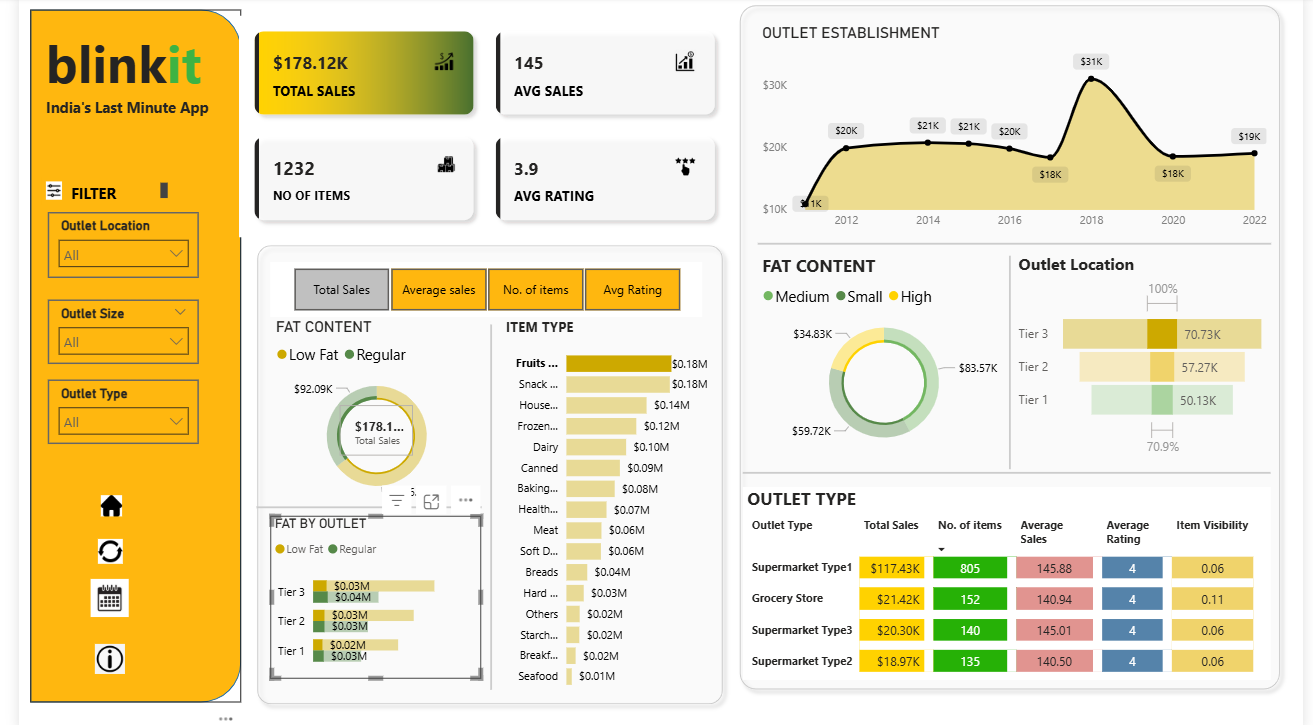

The dashboard page shown, as its layout file describes it:
{"tool":"powerbi","page":{"name":"Blinkit Dashboard","canvas":[1400,800],"ordinal":0},"visuals":[{"type":"shape","box":[251.4,261.4,525.7,518.6],"z":0},{"type":"shape","box":[12.9,14.3,230,755.7],"z":1000},{"type":"textbox","box":[24.3,28.6,204.3,135.7],"z":2000},{"type":"slicer","fields":{"Values":["BlinkIT Grocery Data.Outlet Location Type"]},"box":[31.5,234.1,165.1,72],"z":3000},{"type":"slicer","fields":{"Values":["BlinkIT Grocery Data.Outlet Type"]},"box":[31.5,417.2,165.1,70.5],"z":4000},{"type":"slicer","fields":{"Values":["BlinkIT Grocery Data.Outlet Size"]},"box":[31.5,330.2,165.1,70.5],"z":5000},{"type":"image","box":[80,538.6,40,32.9],"z":6000},{"type":"image","box":[80,585.7,38.6,37.1],"z":7000},{"type":"image","box":[71.4,630,55.7,51.4],"z":8000},{"type":"image","box":[75.7,701.4,45.7,42.9],"z":9000},{"type":"image","box":[24,196.6,27,30],"z":10000},{"type":"textbox","box":[51.4,197.1,115.7,37.1],"z":11000},{"type":"cardVisual","fields":{"Data":["BlinkIT Grocery Data.Total Sales","BlinkIT Grocery Data.Average sales","BlinkIT Grocery Data.No. of items","BlinkIT Grocery Data.Avg Rating"]},"box":[240,20,537.1,241.4],"z":12000},{"type":"donutChart","title":"FAT CONTENT","fields":{"Y":["BlinkIT Grocery Data.Total Sales"],"Category":["BlinkIT Grocery Data.Item Fat Content"]},"box":[275.7,348.6,230,208.6],"z":13000},{"type":"slicer","fields":{"Values":["Metrix.Metrix"]},"box":[274.3,288.6,471.4,60],"z":14000},{"type":"cardVisual","fields":{"Data":["BlinkIT Grocery Data.Total Sales"]},"box":[344.3,440,90,65.7],"z":15000},{"type":"clusteredBarChart","title":"FAT BY OUTLET","fields":{"Y":["BlinkIT Grocery Data.Total Sales"],"Category":["BlinkIT Grocery Data.Outlet Location Type"],"Series":["BlinkIT Grocery Data.Item Fat Content"]},"box":[274.3,565.7,230,178.6],"z":16000},{"type":"shape","box":[258.6,534.3,245.7,44.3],"z":17000},{"type":"shape","box":[478.6,357.1,72.9,398.6],"z":18000},{"type":"barChart","title":"ITEM TYPE","fields":{"Y":["BlinkIT Grocery Data.Total Sales"],"Category":["BlinkIT Grocery Data.Item Type"]},"box":[525.7,348.6,230,415.7],"z":19000},{"type":"shape","box":[777.1,0,607.1,764.3],"z":20000},{"type":"lineChart","title":"OUTLET ESTABLISHMENT ","fields":{"Y":["BlinkIT Grocery Data.Total Sales"],"Category":["BlinkIT Grocery Data.Outlet Establishment Year"]},"box":[805.7,28.6,560,232.9],"z":21000},{"type":"shape","box":[805.7,242.9,560,52.9],"z":22000},{"type":"donutChart","title":"FAT CONTENT","fields":{"Category":["BlinkIT Grocery Data.Outlet Size"],"Y":["BlinkIT Grocery Data.Total Sales"]},"box":[805.7,280,275.7,225.7],"z":23000},{"type":"shape","box":[1044.3,282.9,72.9,232.9],"z":24000},{"type":"funnel","title":"Outlet Location ","fields":{"Category":["BlinkIT Grocery Data.Outlet Location Type"],"Y":["Sum(BlinkIT Grocery Data.Sales)"]},"box":[1085.7,280,280,225.7],"z":25000},{"type":"shape","box":[790,498.6,575.7,40],"z":26000},{"type":"pivotTable","title":"OUTLET TYPE","fields":{"Values":["BlinkIT Grocery Data.Total Sales","BlinkIT Grocery Data.No. of items","BlinkIT Grocery Data.Average sales","BlinkIT Grocery Data.Avg Rating","Avg(BlinkIT Grocery Data.Item Visibility)"],"Rows":["BlinkIT Grocery Data.Outlet Type"]},"box":[790,534.3,575.7,210],"z":27000}]}

Visuals, with their boxes on the page's 1400x800 design canvas (x1, y1, x2, y2). These are canvas units, not pixel positions in the 1313x725 screenshot, which may show the page scaled, cropped or inside an application window:
shape: [left=251, top=261, right=777, bottom=780]
shape: [left=13, top=14, right=243, bottom=770]
textbox: [left=24, top=29, right=229, bottom=164]
slicer - BlinkIT Grocery Data.Outlet Location Type: [left=32, top=234, right=197, bottom=306]
slicer - BlinkIT Grocery Data.Outlet Type: [left=32, top=417, right=197, bottom=488]
slicer - BlinkIT Grocery Data.Outlet Size: [left=32, top=330, right=197, bottom=401]
image: [left=80, top=539, right=120, bottom=572]
image: [left=80, top=586, right=119, bottom=623]
image: [left=71, top=630, right=127, bottom=681]
image: [left=76, top=701, right=121, bottom=744]
image: [left=24, top=197, right=51, bottom=227]
textbox: [left=51, top=197, right=167, bottom=234]
cardVisual - BlinkIT Grocery Data.Total Sales x BlinkIT Grocery Data.Average sales: [left=240, top=20, right=777, bottom=261]
"FAT CONTENT" donutChart: [left=276, top=349, right=506, bottom=557]
slicer - Metrix.Metrix: [left=274, top=289, right=746, bottom=349]
cardVisual - BlinkIT Grocery Data.Total Sales: [left=344, top=440, right=434, bottom=506]
"FAT BY OUTLET" clusteredBarChart: [left=274, top=566, right=504, bottom=744]
shape: [left=259, top=534, right=504, bottom=579]
shape: [left=479, top=357, right=552, bottom=756]
"ITEM TYPE" barChart: [left=526, top=349, right=756, bottom=764]
shape: [left=777, top=0, right=1384, bottom=764]
"OUTLET ESTABLISHMENT " lineChart: [left=806, top=29, right=1366, bottom=262]
shape: [left=806, top=243, right=1366, bottom=296]
"FAT CONTENT" donutChart: [left=806, top=280, right=1081, bottom=506]
shape: [left=1044, top=283, right=1117, bottom=516]
"Outlet Location " funnel: [left=1086, top=280, right=1366, bottom=506]
shape: [left=790, top=499, right=1366, bottom=539]
"OUTLET TYPE" pivotTable: [left=790, top=534, right=1366, bottom=744]
